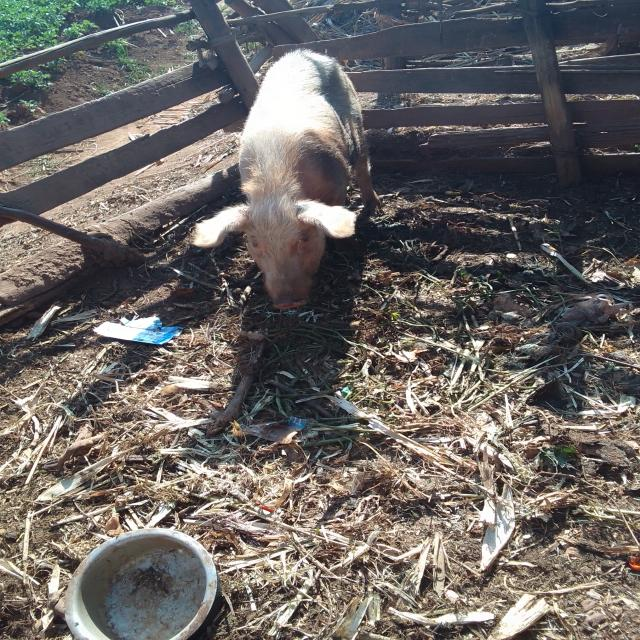pig: (139, 16, 455, 343)
